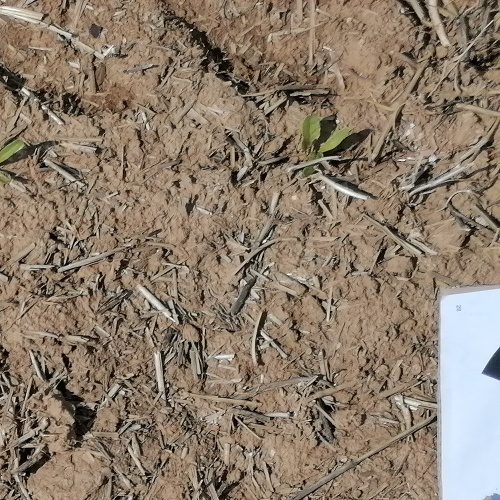beet: (296, 119, 355, 177), (0, 137, 26, 177)
